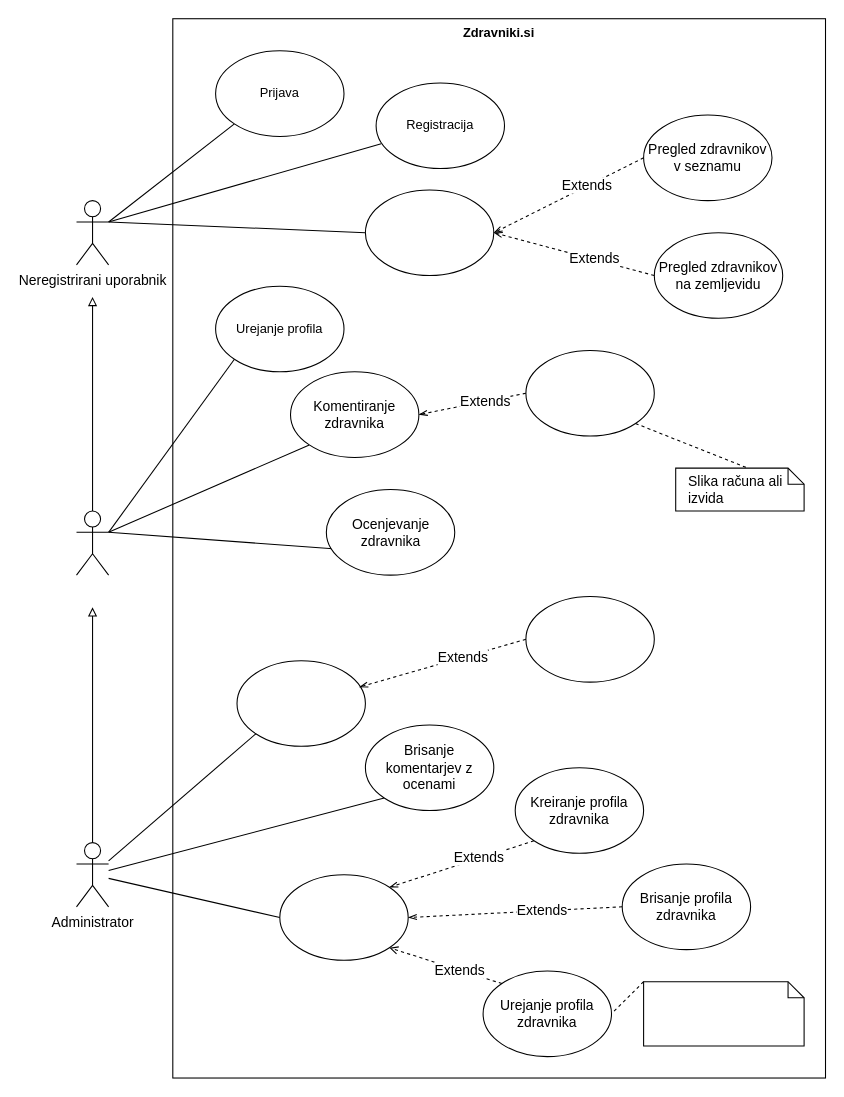
The diagram is 844 pixels wide and 1097 high, and some of its shapes have lost their labels. The shapes that lost their labels are listed below. From the top down, each one's box as (x1, y1, x2, y2) in pixels, then its label:
(364, 189, 494, 276): Iskanje zdravnikov
(525, 349, 654, 436): Nalaganje potrdila o opravljeni storitvi
(75, 510, 109, 575): Registrirani uporabnik
(525, 595, 654, 682): Preverjanje istovetnosti komentarja uporabnika
(236, 660, 365, 746): Pregled vseh naloženih potrdil izkušenj
(279, 874, 408, 960): Upravljanje profila zdravnika
(643, 981, 804, 1046): Npr. dodajanje opisa zdravnika
